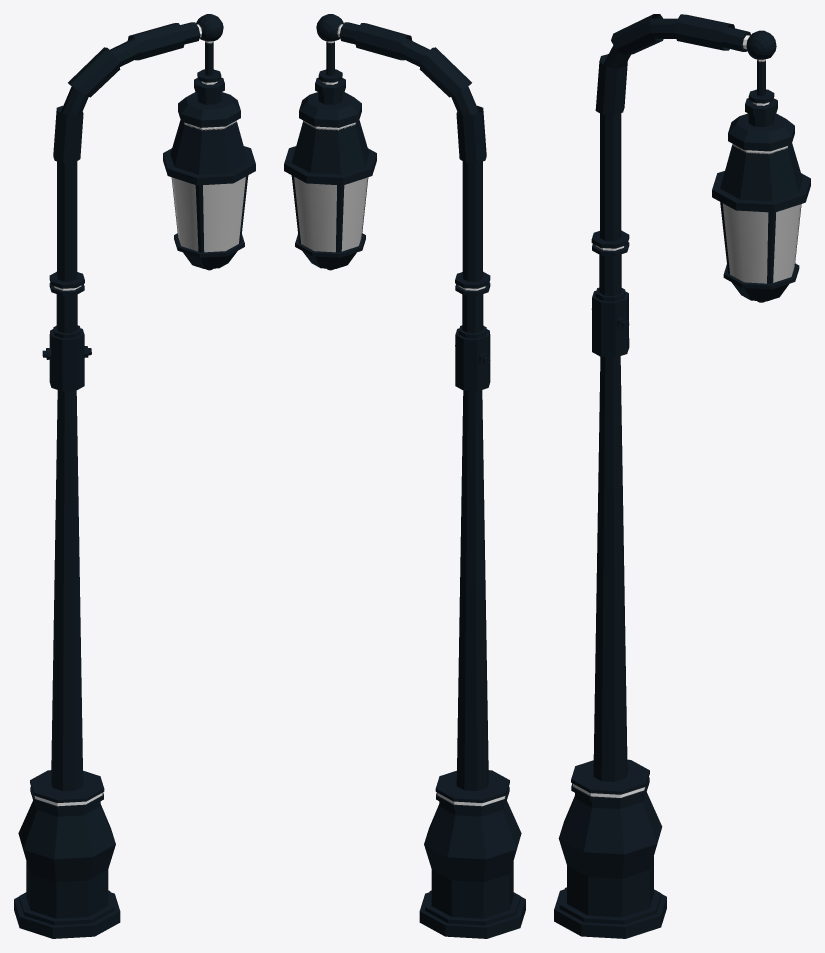
File: lamp2.0.fbx
The picture shows the model from 3 angles, left to right: view 1: azimuth 30°, elevation 25°; view 2: azimuth 150°, elevation 25°; view 3: azimuth 330°, elevation 25°; orthographic projection. The views are drawn at different scales.
Visible parts, largest first — view 1: model_1_pole, model_1_glass, model_1_rod; view 2: model_1_pole, model_1_glass, model_1_rod; view 3: model_1_pole, model_1_glass, model_1_rod.
Part boxes in pixels (x1,y1,x2,y2): model_1_pole: [14, 14, 255, 938]; model_1_glass: [172, 177, 245, 252]; model_1_rod: [171, 175, 248, 252]; model_1_pole: [284, 14, 525, 938]; model_1_glass: [294, 177, 367, 252]; model_1_rod: [291, 175, 368, 252]; model_1_pole: [554, 14, 810, 938]; model_1_glass: [722, 203, 801, 283]; model_1_rod: [720, 202, 801, 283].
Bounding box in the file's own units: 0.6601 × 0.2716 × 2.36.
